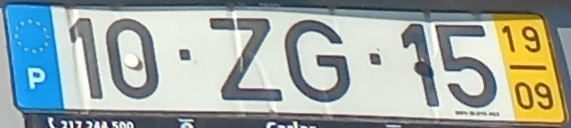0: (102, 15, 161, 102)
1: (398, 21, 441, 110), (65, 16, 104, 101)
5: (431, 22, 500, 110)
G: (282, 16, 352, 105)
Z: (206, 16, 285, 104)
